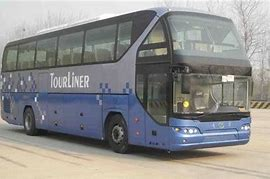bigcar: (1, 7, 252, 153)
